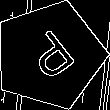P_SE: (18, 24, 81, 87)
